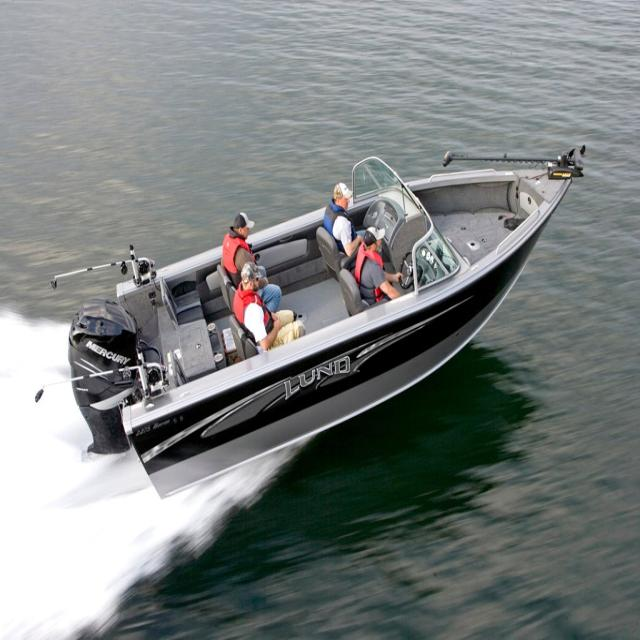Fishing Boat: (6, 148, 578, 457)
